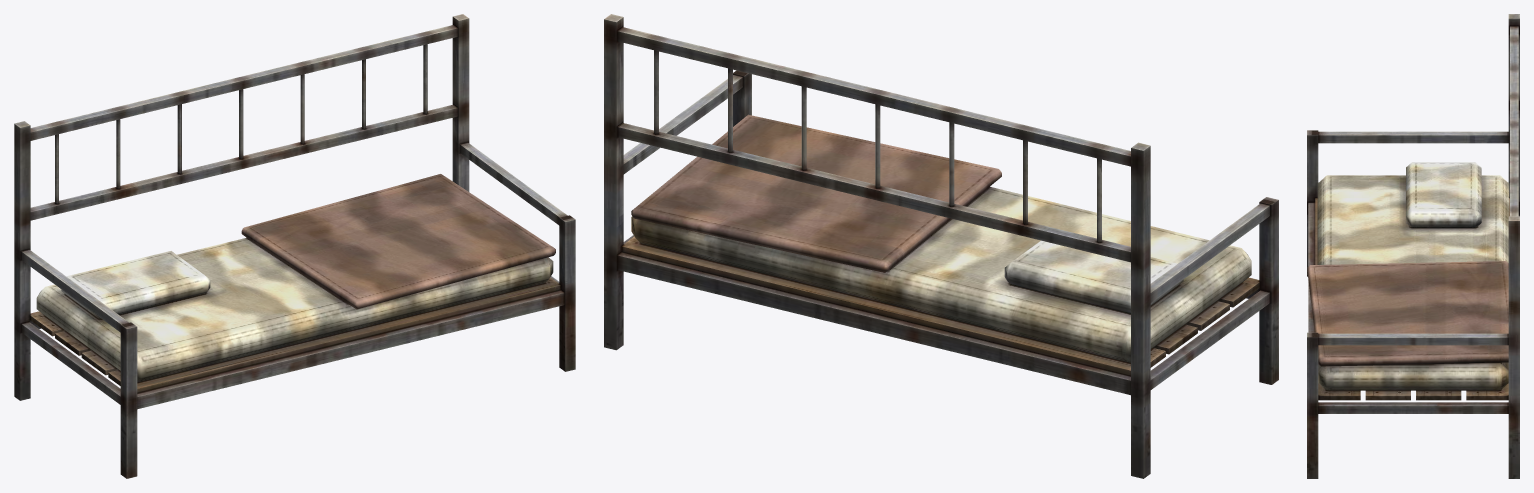
Rendered from cama_improvisada.glb.
3 renders of one model, left to right at view 1: azimuth 30°, elevation 25°; view 2: azimuth 150°, elevation 25°; view 3: azimuth 270°, elevation 25°, orthographic. The views are drawn at different scales.
Parts seen in each view (by area): view 1: cama_improvisada; view 2: cama_improvisada; view 3: cama_improvisada.
Part boxes in pixels (x1,y1,x2,y2): cama_improvisada: [14, 14, 575, 478]; cama_improvisada: [604, 14, 1278, 478]; cama_improvisada: [1307, 14, 1519, 478].
Bounding box in the file's own units: 1.94 × 1.13 × 0.845.
1 material, 1 textured.
